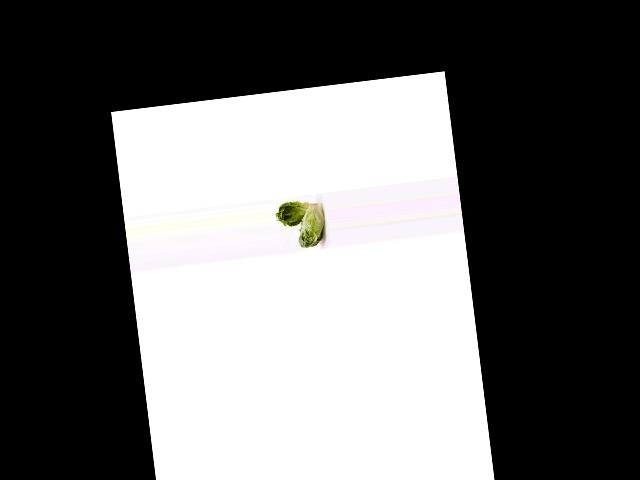lettuce: (291, 199, 329, 251)
